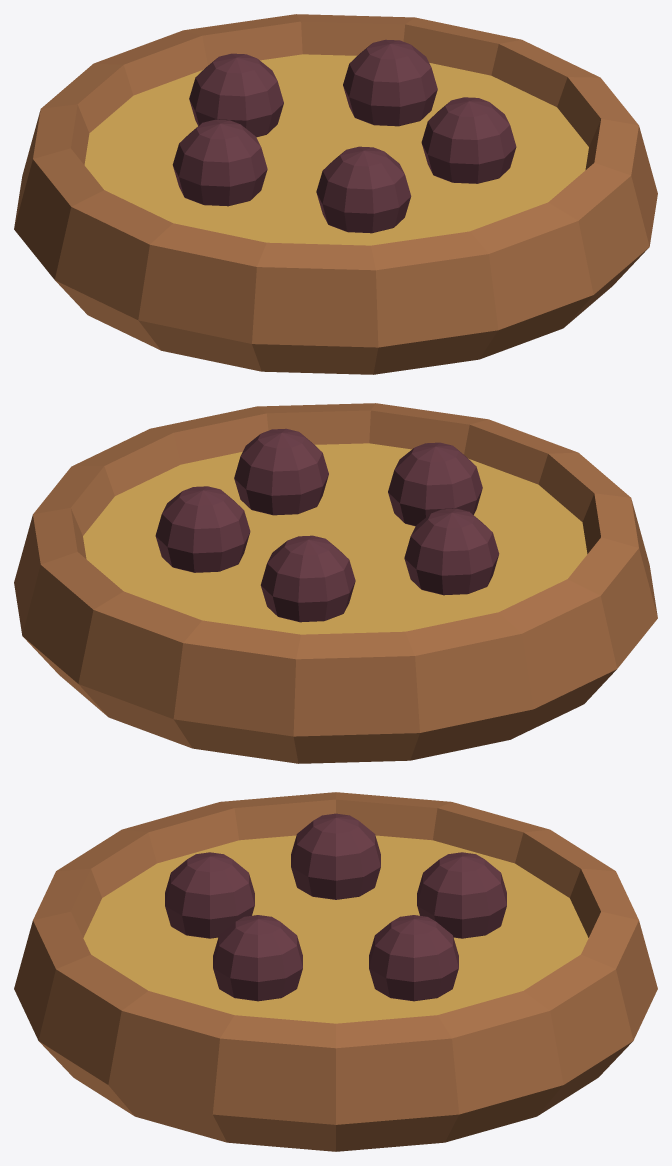
The model's file is AE_Item_HoneyTart.fbx.
3 renders of one model, top to bottom at view 1: azimuth 30°, elevation 25°; view 2: azimuth 150°, elevation 25°; view 3: azimuth 270°, elevation 25°, orthographic.
Parts seen in each view (by area): view 1: AE_Item_HoneyTart; view 2: AE_Item_HoneyTart; view 3: AE_Item_HoneyTart.
Part boxes in pixels (x1,y1,x2,y2): AE_Item_HoneyTart: (14,14,657,374); AE_Item_HoneyTart: (14,403,657,763); AE_Item_HoneyTart: (14,792,657,1151).
Bounding box in the file's own units: 0.34 × 0.092 × 0.34.
